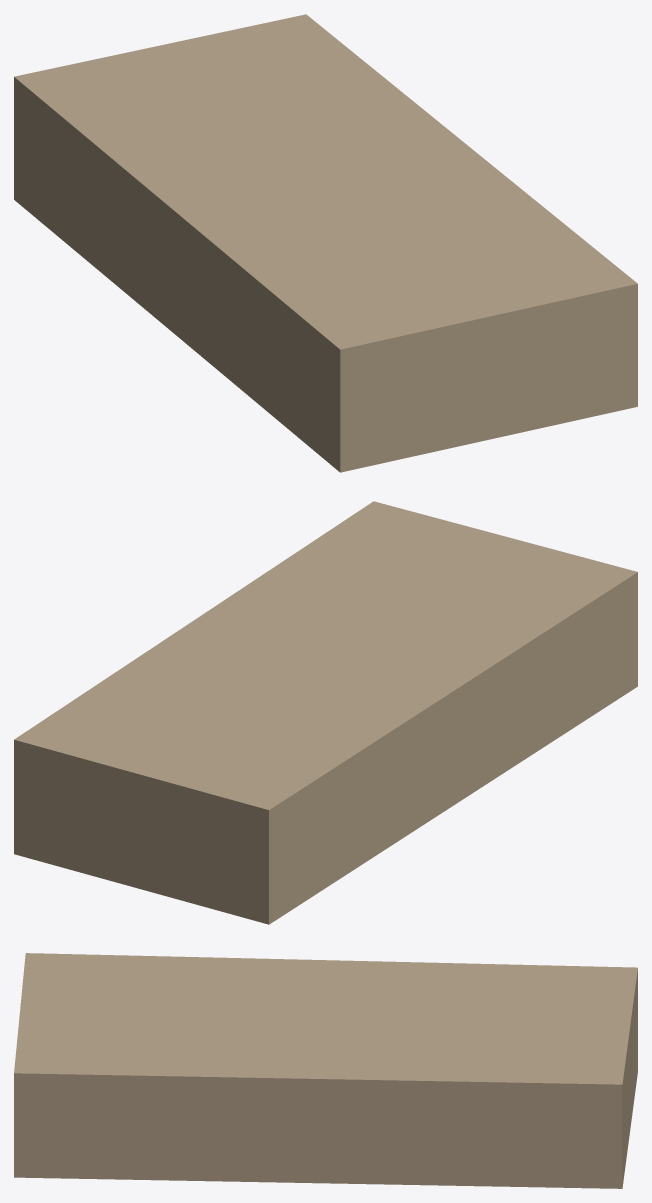
Rendered from bld_48777893.dae.
3 views of the same model, one above another, from view 1: azimuth 30°, elevation 25°; view 2: azimuth 150°, elevation 25°; view 3: azimuth 270°, elevation 25° (orthographic). The views are drawn at different scales.
Parts seen in each view (by area): view 1: Shoes Direct; view 2: Shoes Direct; view 3: Shoes Direct.
Boxes of the visible parts, x1=… form: Shoes Direct: x1=14, y1=14, x2=637, y2=472; Shoes Direct: x1=14, y1=501, x2=637, y2=924; Shoes Direct: x1=14, y1=953, x2=637, y2=1188.
Bounding box in the file's own units: 21.65 × 43.39 × 8.
